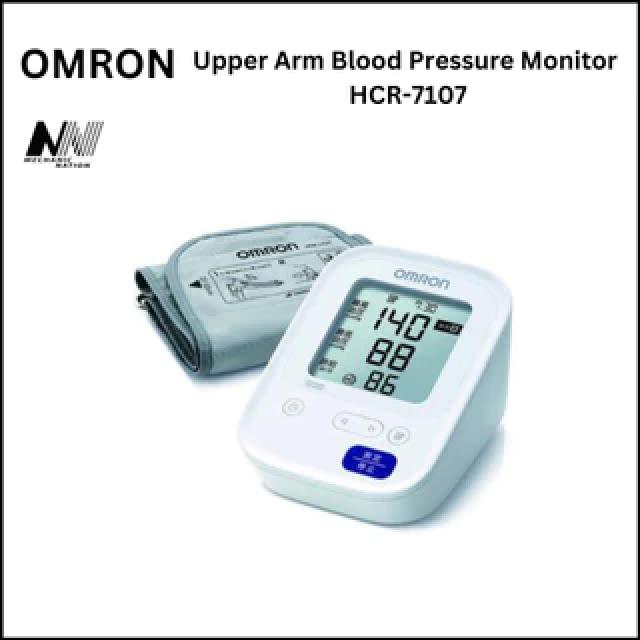dia: (356, 333, 426, 384)
pul: (352, 363, 411, 404)
ssd: (305, 251, 473, 426)
sys: (362, 297, 440, 350)
